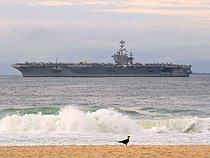MIL_Ship: (11, 40, 193, 78)
